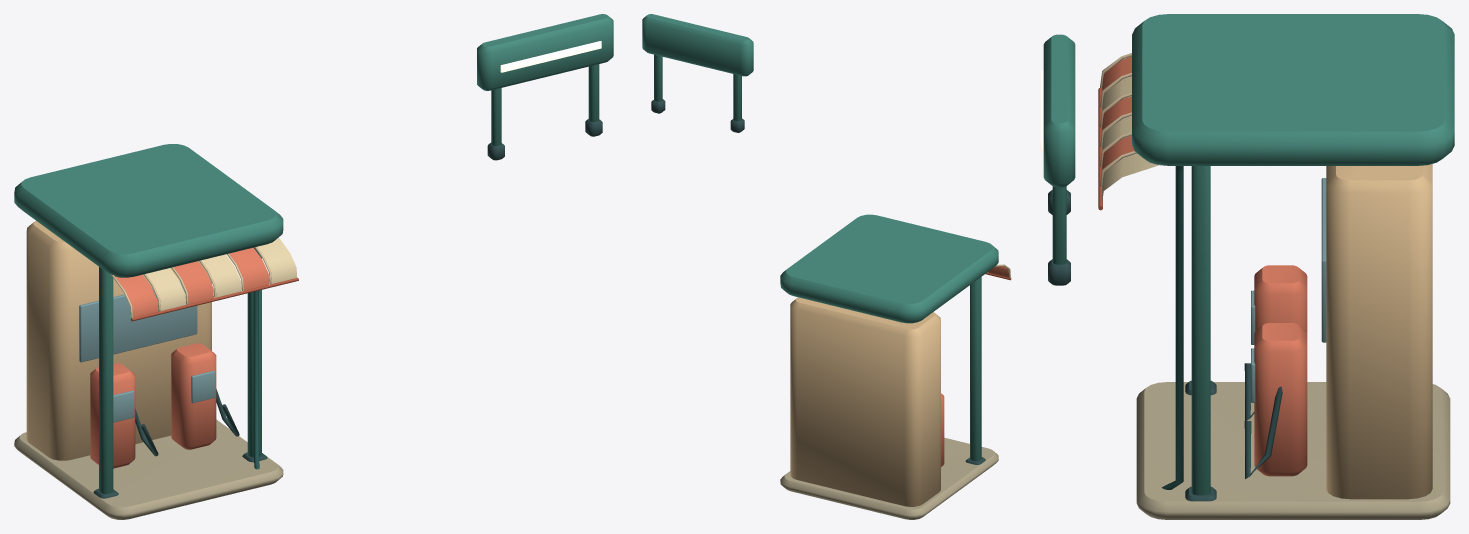
The model's file is tropical_fuel_4.glb.
3 views of the same model, side by side, from view 1: azimuth 30°, elevation 25°; view 2: azimuth 150°, elevation 25°; view 3: azimuth 270°, elevation 25° (orthographic). The views are drawn at different scales.
Parts seen in each view (by area): view 1: TropicalFuel4; view 2: TropicalFuel4; view 3: TropicalFuel4.
Part boxes in pixels (<box>): TropicalFuel4: <box>14,14,613,519</box>; TropicalFuel4: <box>642,14,1011,519</box>; TropicalFuel4: <box>1040,14,1454,519</box>.
Bounding box in the file's own units: 6.28 × 5.29 × 3.28.
